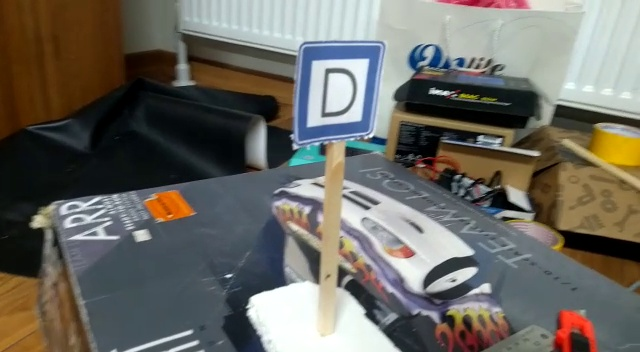durak: (302, 49, 373, 141)
